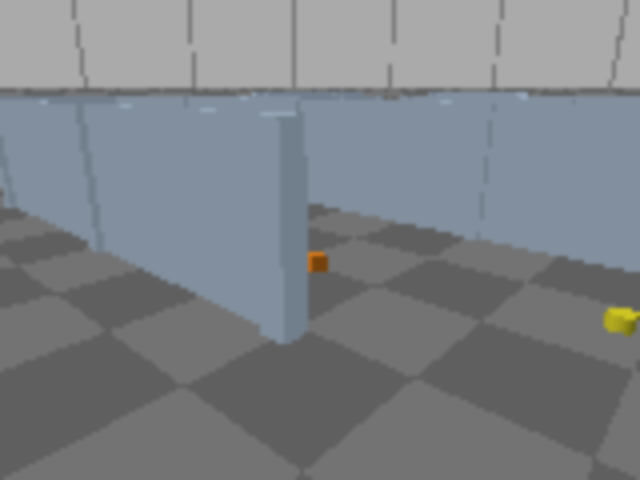puck: (604, 307, 638, 334), (305, 251, 327, 274)
